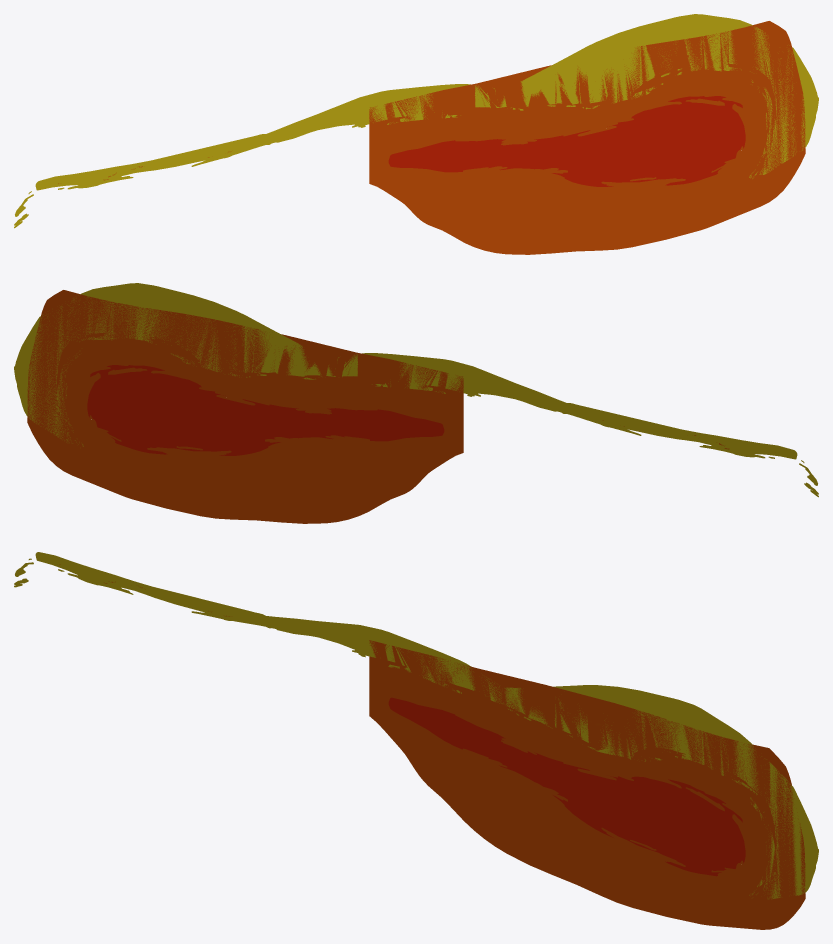
Rendered from lavawhole.fbx.
The picture shows the model from 3 angles, top to bottom: view 1: azimuth 30°, elevation 25°; view 2: azimuth 150°, elevation 25°; view 3: azimuth 330°, elevation 25°; orthographic projection.
Visible parts, largest first — view 1: lavawhole; view 2: lavawhole; view 3: lavawhole.
Boxes of the visible parts, x1=… form: lavawhole: x1=14, y1=14, x2=818, y2=254; lavawhole: x1=14, y1=283, x2=818, y2=523; lavawhole: x1=14, y1=552, x2=818, y2=929.
Size of the model in its own units: 1333 by 348 by 0.
